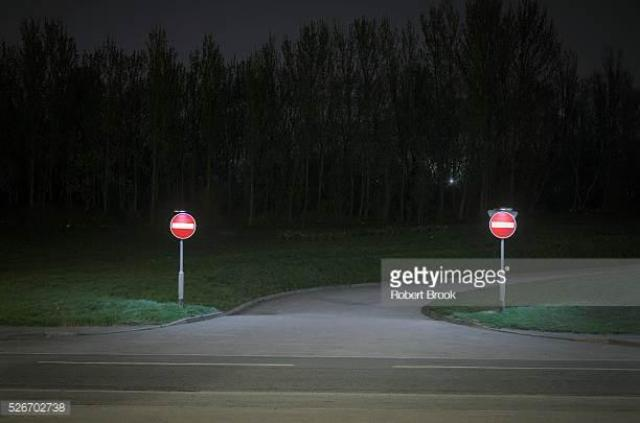B2: (488, 209, 516, 239), (168, 212, 196, 240)
